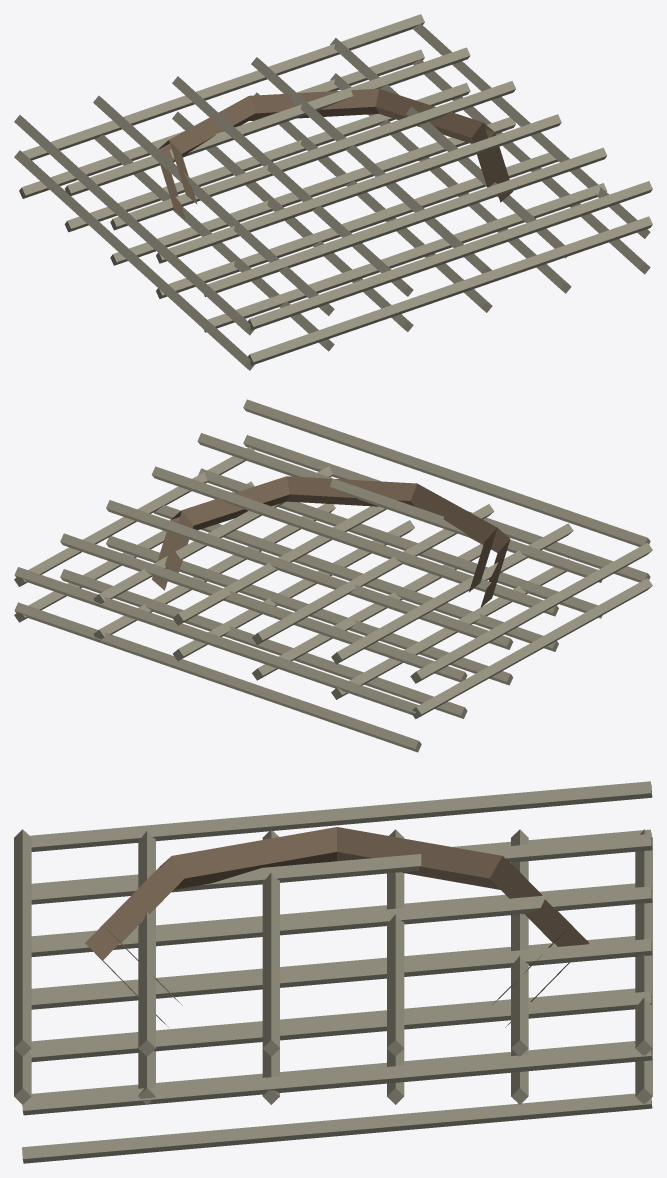
Rendered from net_pile.glb.
3 renders of one model, top to bottom at view 1: azimuth 30°, elevation 25°; view 2: azimuth 150°, elevation 25°; view 3: azimuth 270°, elevation 25°, orthographic. The views are drawn at different scales.
Visible parts, largest first — view 1: net_pile; view 2: net_pile; view 3: net_pile.
Part boxes in pixels (x1,y1,x2,y2): net_pile: [14, 14, 652, 370]; net_pile: [14, 399, 652, 752]; net_pile: [14, 781, 652, 1163].
Size of the model in its own units: 1.92 by 0.42 by 1.92.
